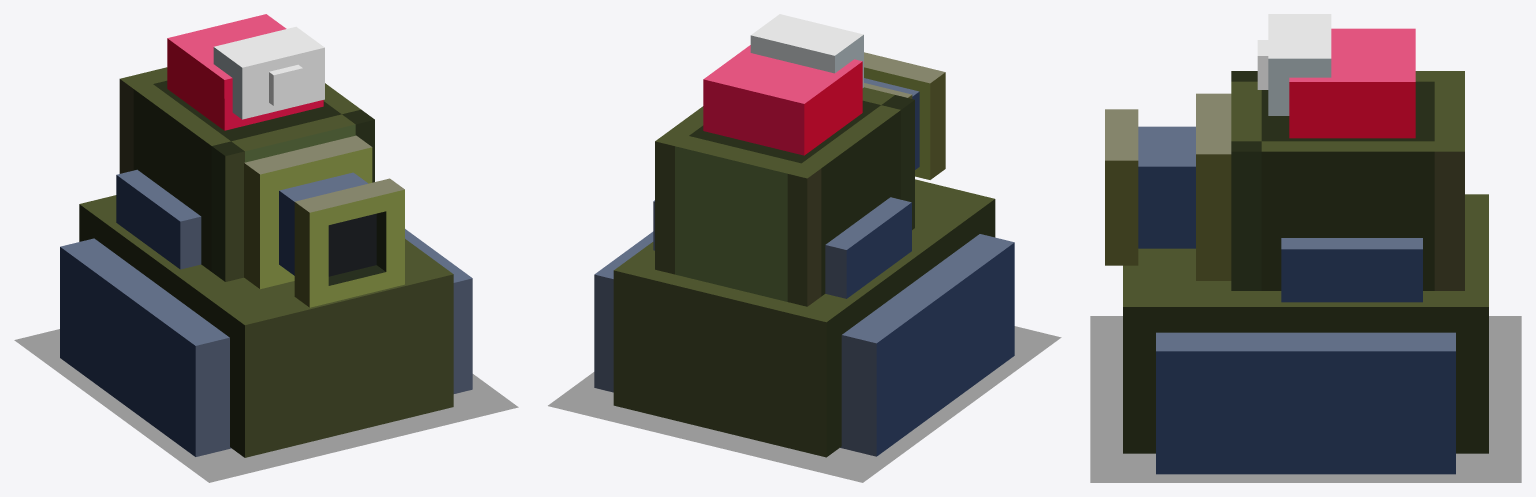
File: EN_TankBit.fbx
3 views of the same model, side by side, from view 1: azimuth 30°, elevation 25°; view 2: azimuth 150°, elevation 25°; view 3: azimuth 270°, elevation 25° (orthographic). The views are drawn at different scales.
Visible parts, largest first — view 1: Base, pCube16, Neck, pCube14, Shadow, pCube15, Body, Eye, pCube18, pCube17, pCube13, Pupil; view 2: Base, Neck, pCube16, Body, Shadow, pCube18, Eye, pCube14, pCube17, pCube13; view 3: pCube17, Neck, Base, Shadow, Body, pCube19, pCube13, pCube15, pCube14, Eye, Pupil.
Boxes of the visible parts, x1,y1,x2,y2 form: Base: [79, 195, 453, 457]; pCube16: [60, 238, 231, 456]; Neck: [119, 67, 374, 281]; pCube14: [294, 178, 404, 307]; Shadow: [14, 329, 518, 482]; pCube15: [244, 135, 372, 289]; Body: [167, 14, 323, 130]; Eye: [213, 26, 324, 119]; pCube18: [116, 169, 201, 269]; pCube17: [405, 229, 472, 393]; pCube13: [279, 172, 367, 275]; Pupil: [269, 64, 302, 105]; Base: [613, 179, 995, 457]; Neck: [655, 87, 914, 306]; pCube16: [840, 234, 1014, 456]; Body: [703, 45, 862, 155]; Shadow: [548, 326, 1061, 482]; pCube18: [825, 197, 911, 298]; Eye: [750, 14, 863, 87]; pCube14: [864, 52, 945, 179]; pCube17: [594, 231, 653, 392]; pCube13: [864, 78, 919, 169]; pCube17: [1156, 332, 1455, 474]; Neck: [1231, 71, 1464, 290]; Base: [1123, 194, 1488, 453]; Shadow: [1090, 316, 1521, 482]; Body: [1289, 28, 1415, 138]; pCube19: [1281, 238, 1422, 302]; pCube13: [1138, 126, 1195, 248]; pCube15: [1196, 93, 1231, 280]; pCube14: [1105, 109, 1138, 265]; Eye: [1268, 14, 1331, 115]; Pupil: [1257, 40, 1268, 89].
Bounding box in the file's own units: 93.72 × 95.17 × 102.
